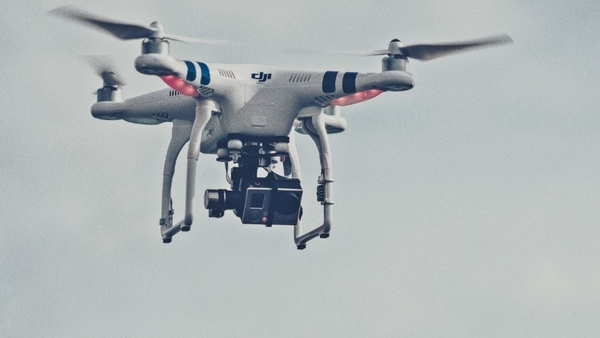drone: (48, 5, 517, 252)
